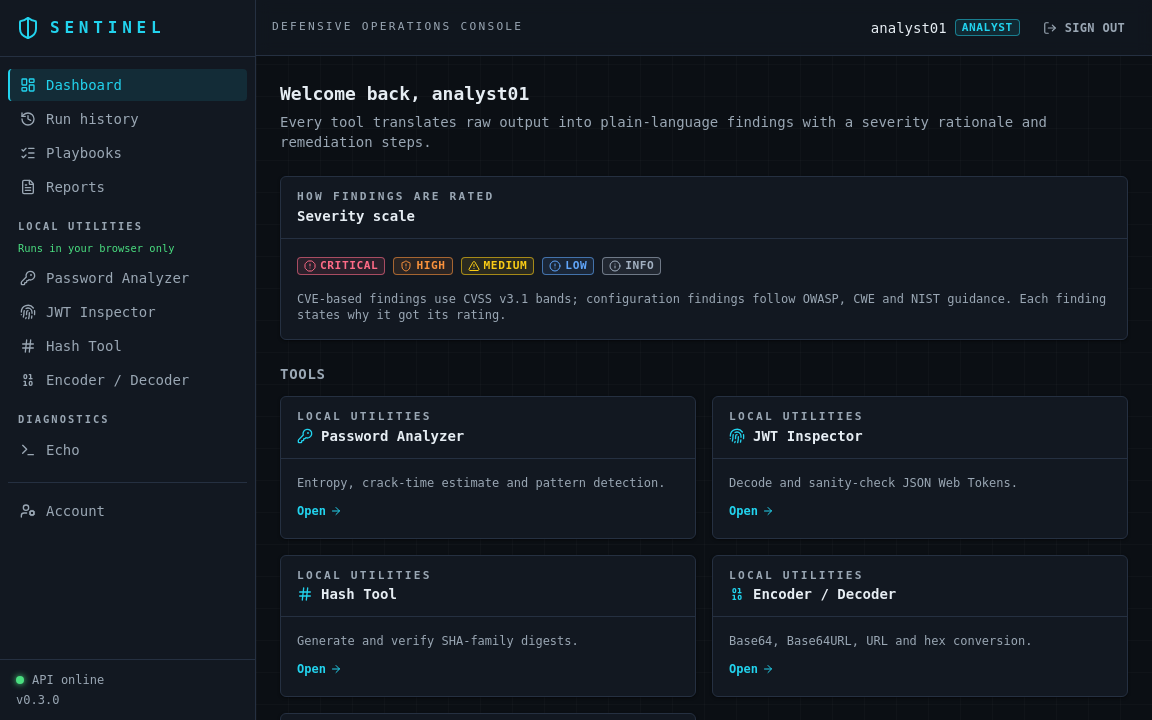
authentication › signs out and returns to the login page
Click the button "Sign out": (1084, 28) [1032, 14, 1136, 40]
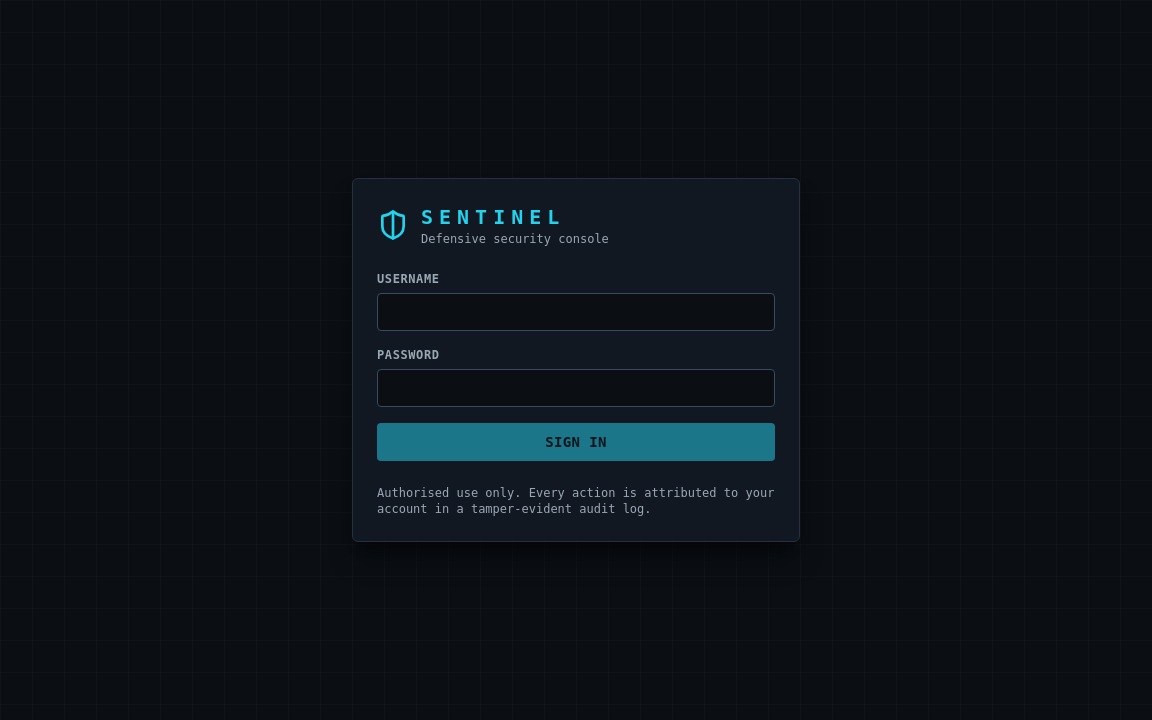
Check: the button "Sign in" is shown, box [377, 423, 775, 461]
